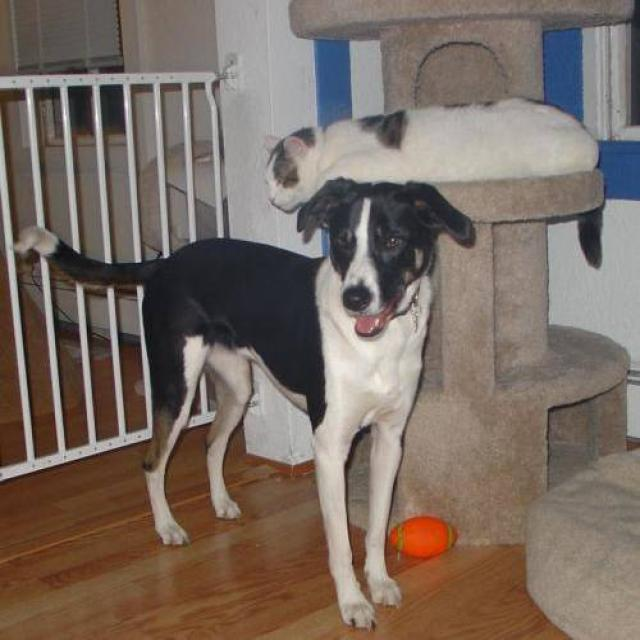dog: (12, 175, 476, 631)
